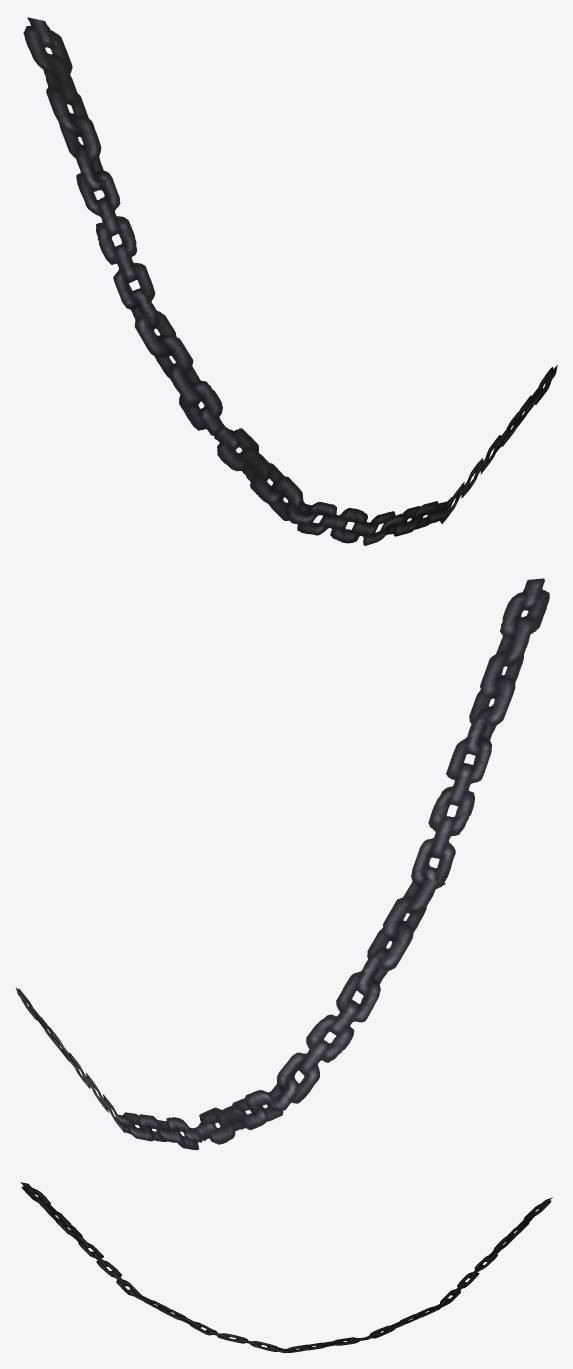
The model's file is 2_WGJ_TieLian_01.FBX.
The picture shows the model from 3 angles, top to bottom: view 1: azimuth 30°, elevation 25°; view 2: azimuth 150°, elevation 25°; view 3: azimuth 270°, elevation 25°; orthographic projection. The views are drawn at different scales.
Parts seen in each view (by area): view 1: 2_WGJ_TieLian_01; view 2: 2_WGJ_TieLian_01; view 3: 2_WGJ_TieLian_01.
Boxes of the visible parts, x1,y1,x2,y2 form: 2_WGJ_TieLian_01: [23, 17, 557, 545]; 2_WGJ_TieLian_01: [16, 578, 549, 1150]; 2_WGJ_TieLian_01: [20, 1182, 552, 1353].
Bounding box in the file's own units: 32.93 × 454 × 1272.
